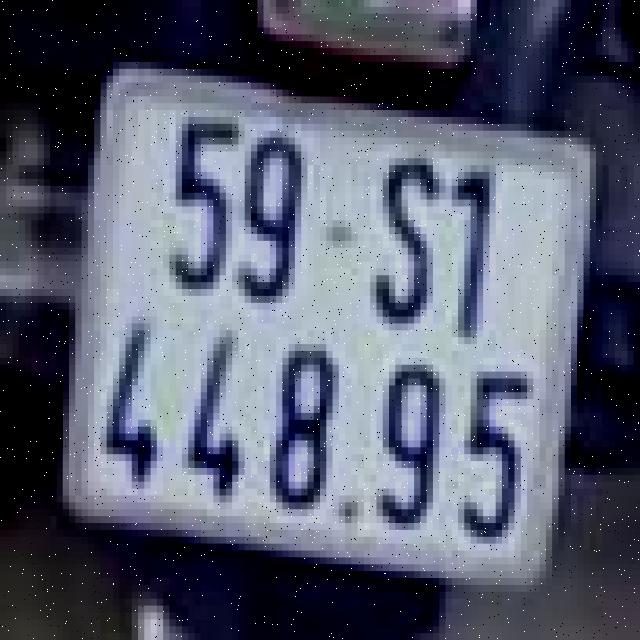1: (446, 145, 508, 344)
4: (176, 310, 257, 509), (94, 316, 170, 488)
5: (455, 358, 543, 550), (157, 113, 238, 300)
8: (267, 327, 342, 526)
9: (373, 348, 449, 534), (238, 110, 308, 310)
S: (367, 134, 449, 334)
